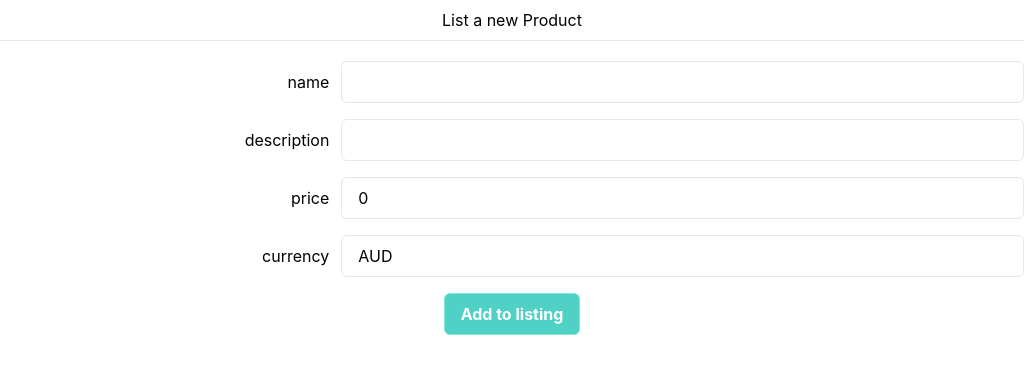
it: shows error when submitting with empty values
The image size is (1036, 388).
Click the button: (512, 314) [444,293,580,335]
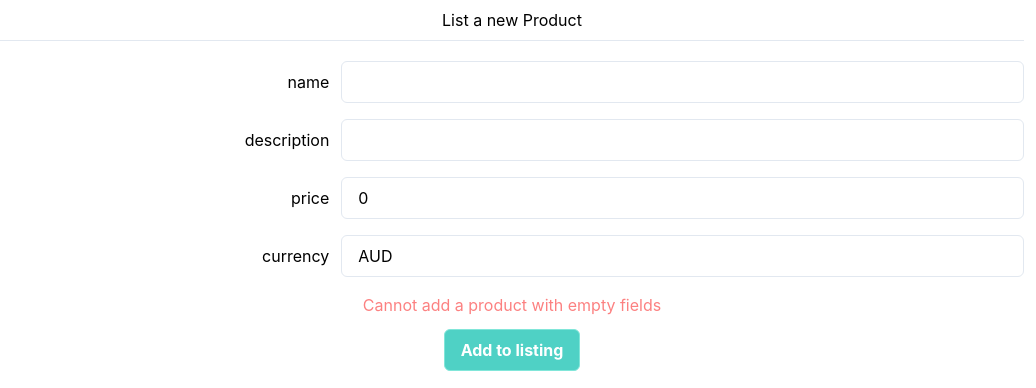
Expected: the text "Cannot add a product with empty fields" is shown, [363,295,661,315]
